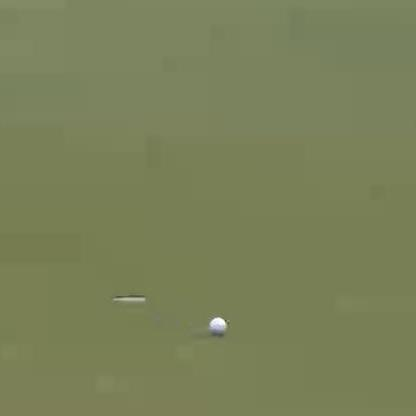golfball: (206, 314, 227, 335)
